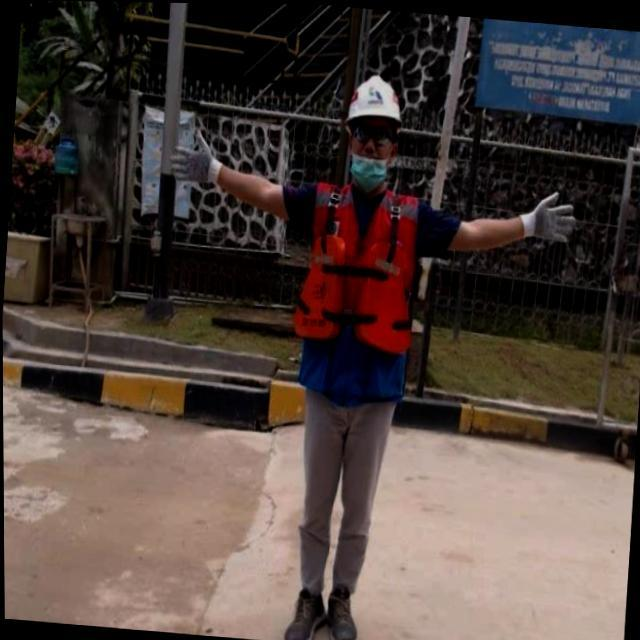goggles_on: (342, 118, 406, 148)
